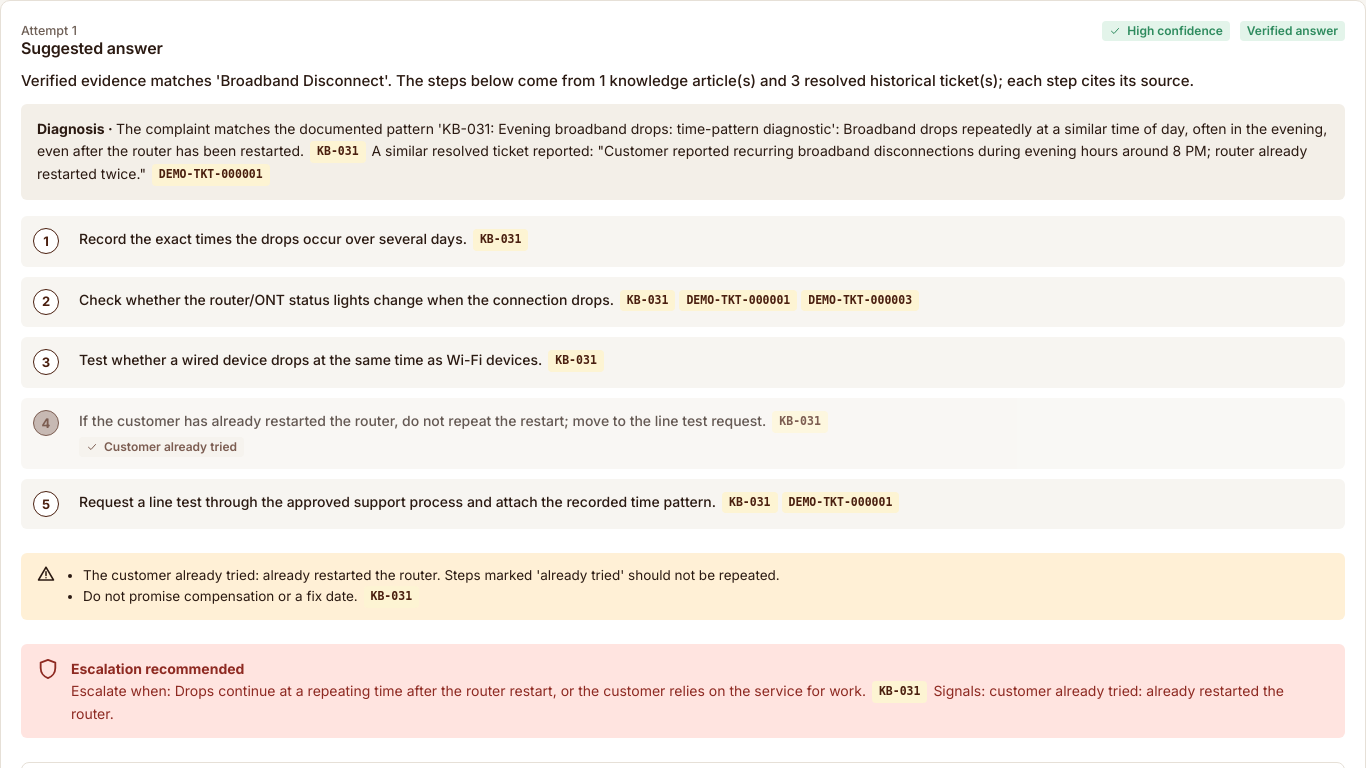
Test case: ResolutionCard + citations › renders grounded steps with clickable citations that open Source Details
Expected: the heading "Suggested answer" is shown, [21,40,163,57]
Expected: the text "Verified answer" is shown, [1240,21,1345,41]
Click the button with aria-label "Open source KB-031".
click(338, 152)  # box [310,141,366,163]
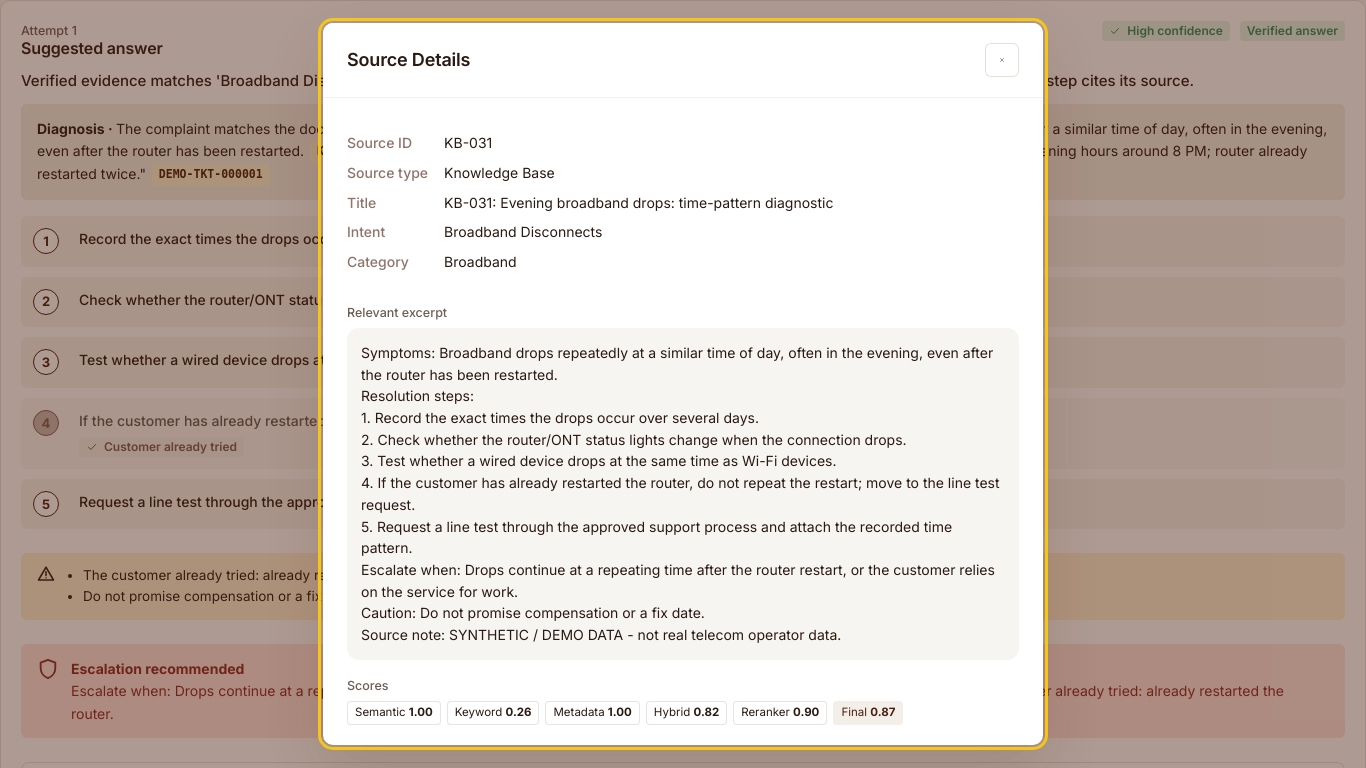
Result: the text "Source ID" is shown at [347,134,412,151]
Result: the text "KB-031" is shown at [444,134,492,151]
Result: the text "Reranker 0.90" is shown at [733,701,827,725]
